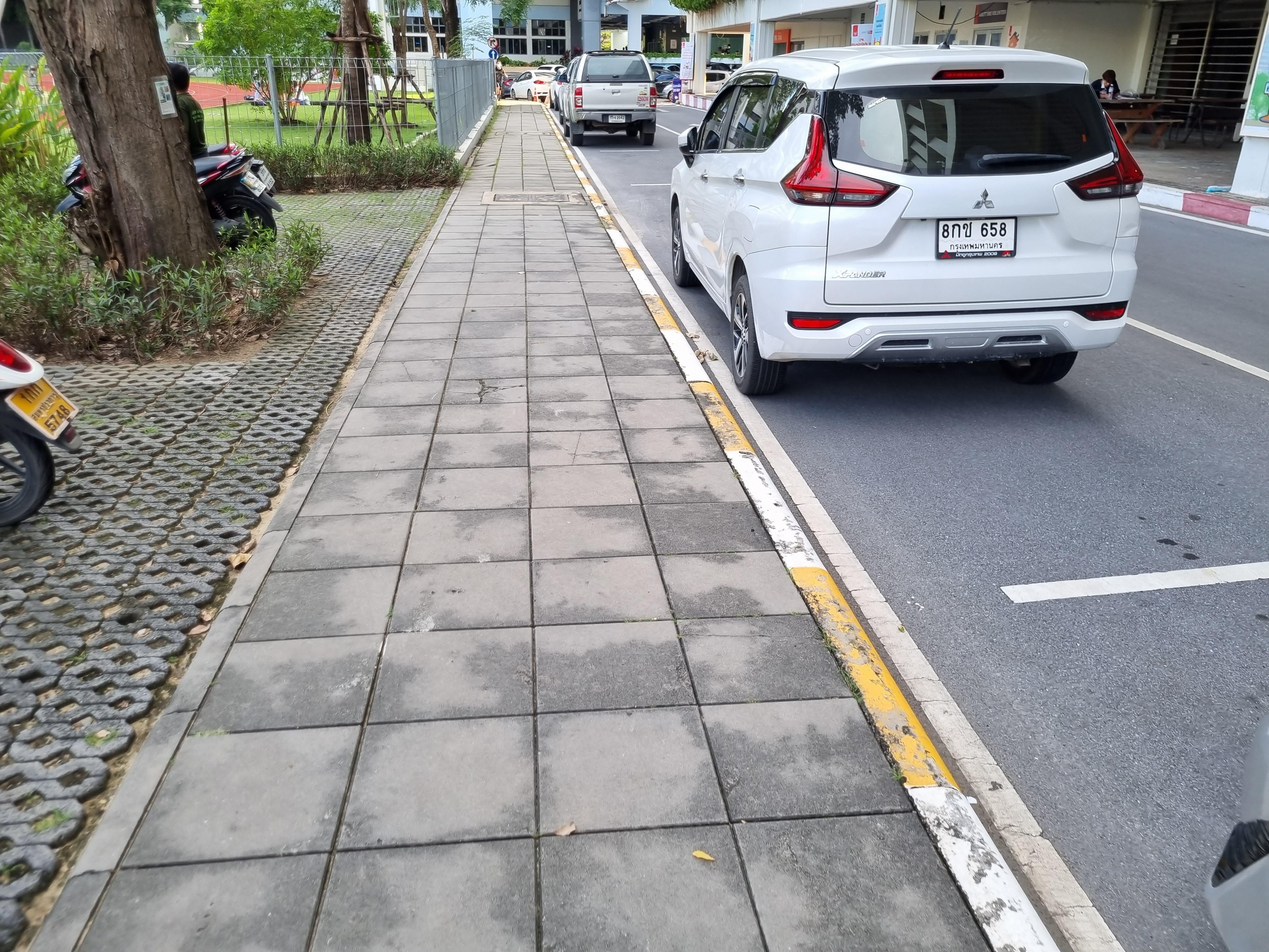license-plate: (936, 214, 1021, 259), (609, 111, 629, 127)
